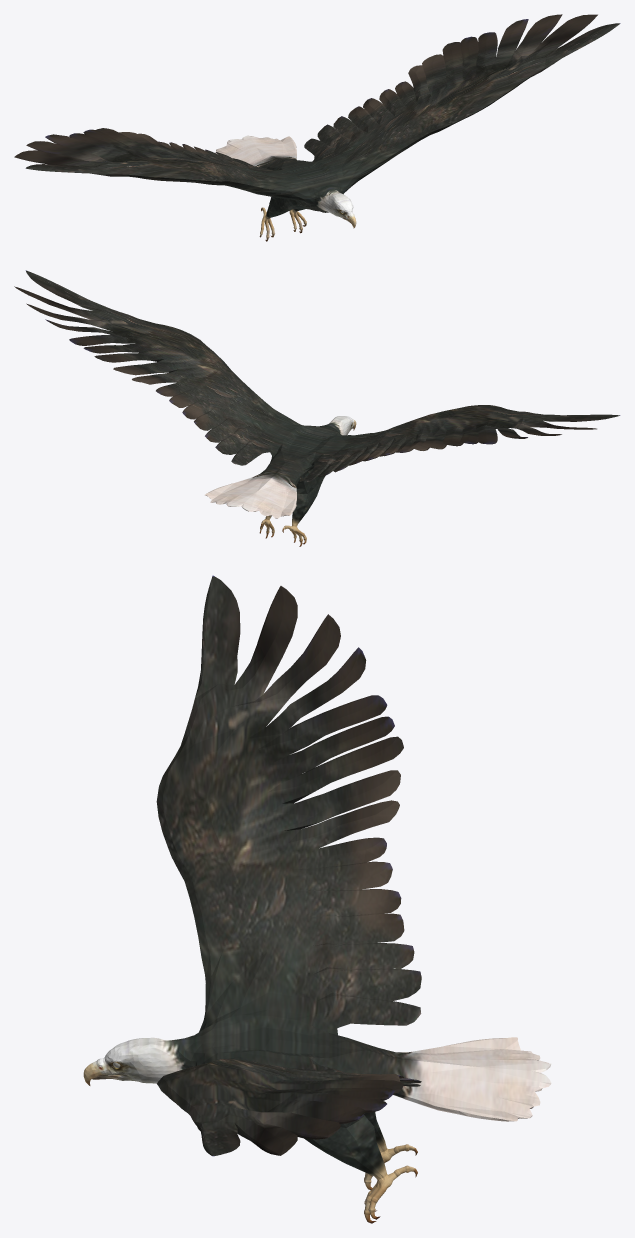
File: bird.obj
3 renders of one model, top to bottom at view 1: azimuth 30°, elevation 25°; view 2: azimuth 150°, elevation 25°; view 3: azimuth 270°, elevation 25°, orthographic. The views are drawn at different scales.
Visible parts, largest first — view 1: eagle_2; view 2: eagle_2; view 3: eagle_2.
Part boxes in pixels (left/top/right/bottom): eagle_2: left=14, top=14, right=620, bottom=241; eagle_2: left=14, top=270, right=620, bottom=546; eagle_2: left=83, top=575, right=551, bottom=1223.
Size of the model in its own units: 1.47 by 0.4026 by 0.5001.
